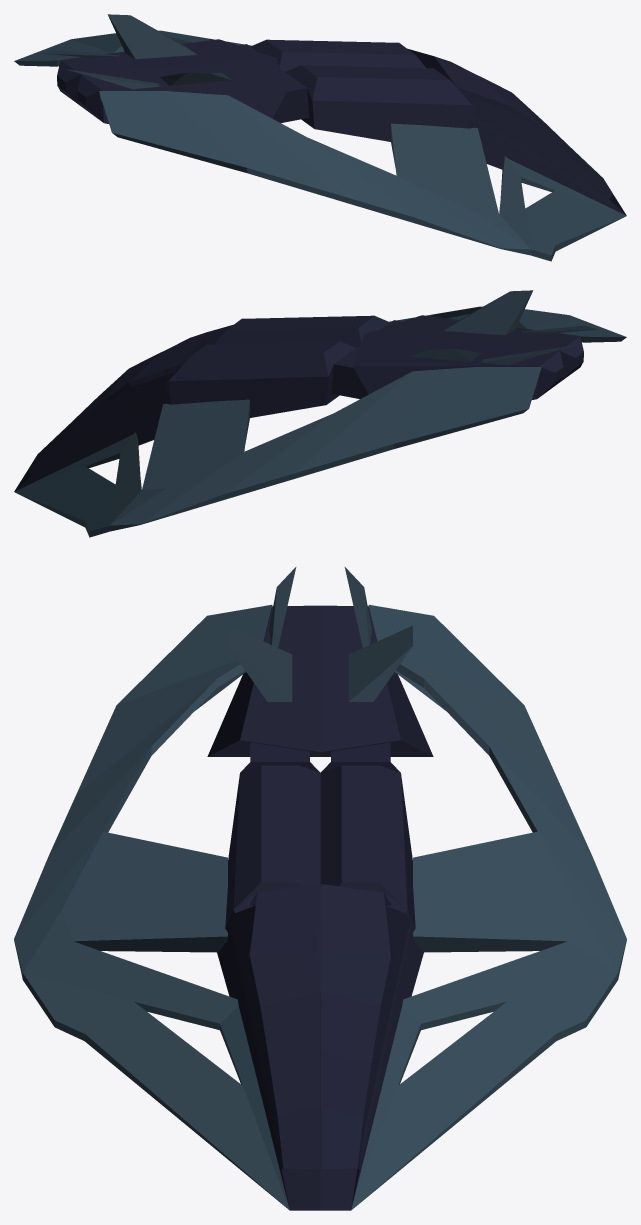
File: AvengersShip.fbx
3 renders of one model, top to bottom at view 1: azimuth 30°, elevation 25°; view 2: azimuth 150°, elevation 25°; view 3: azimuth 270°, elevation 25°, orthographic. The views are drawn at different scales.
Visible parts, largest first — view 1: Cube.005, Cube, Cube.002, Cube.001, Cube.006, Cube.003, Cube.004; view 2: Cube.005, Cube, Cube.002, Cube.001, Cube.006, Cube.003, Cube.004; view 3: Cube.005, Cube.001, Cube.006, Cube, Cube.002, Cube.003, Cube.004.
Boxes of the visible parts, x1,y1,x2,y2 form: Cube.005: (14, 30, 626, 261); Cube: (239, 39, 472, 141); Cube.002: (57, 39, 287, 123); Cube.001: (407, 48, 626, 215); Cube.006: (209, 38, 498, 214); Cube.003: (107, 14, 232, 85); Cube.004: (44, 49, 160, 89); Cube.005: (14, 306, 626, 537); Cube: (168, 315, 401, 417); Cube.002: (353, 315, 583, 399); Cube.001: (14, 324, 233, 491); Cube.006: (142, 314, 431, 490); Cube.003: (408, 290, 533, 361); Cube.004: (480, 325, 596, 365); Cube.005: (14, 604, 626, 1210); Cube.001: (217, 884, 423, 1210); Cube.006: (61, 831, 579, 952); Cube: (225, 742, 415, 927); Cube.002: (207, 605, 433, 756); Cube.003: (228, 625, 412, 701); Cube.004: (269, 567, 371, 647).
Bounding box in the file's own units: 813 × 391 × 663.
